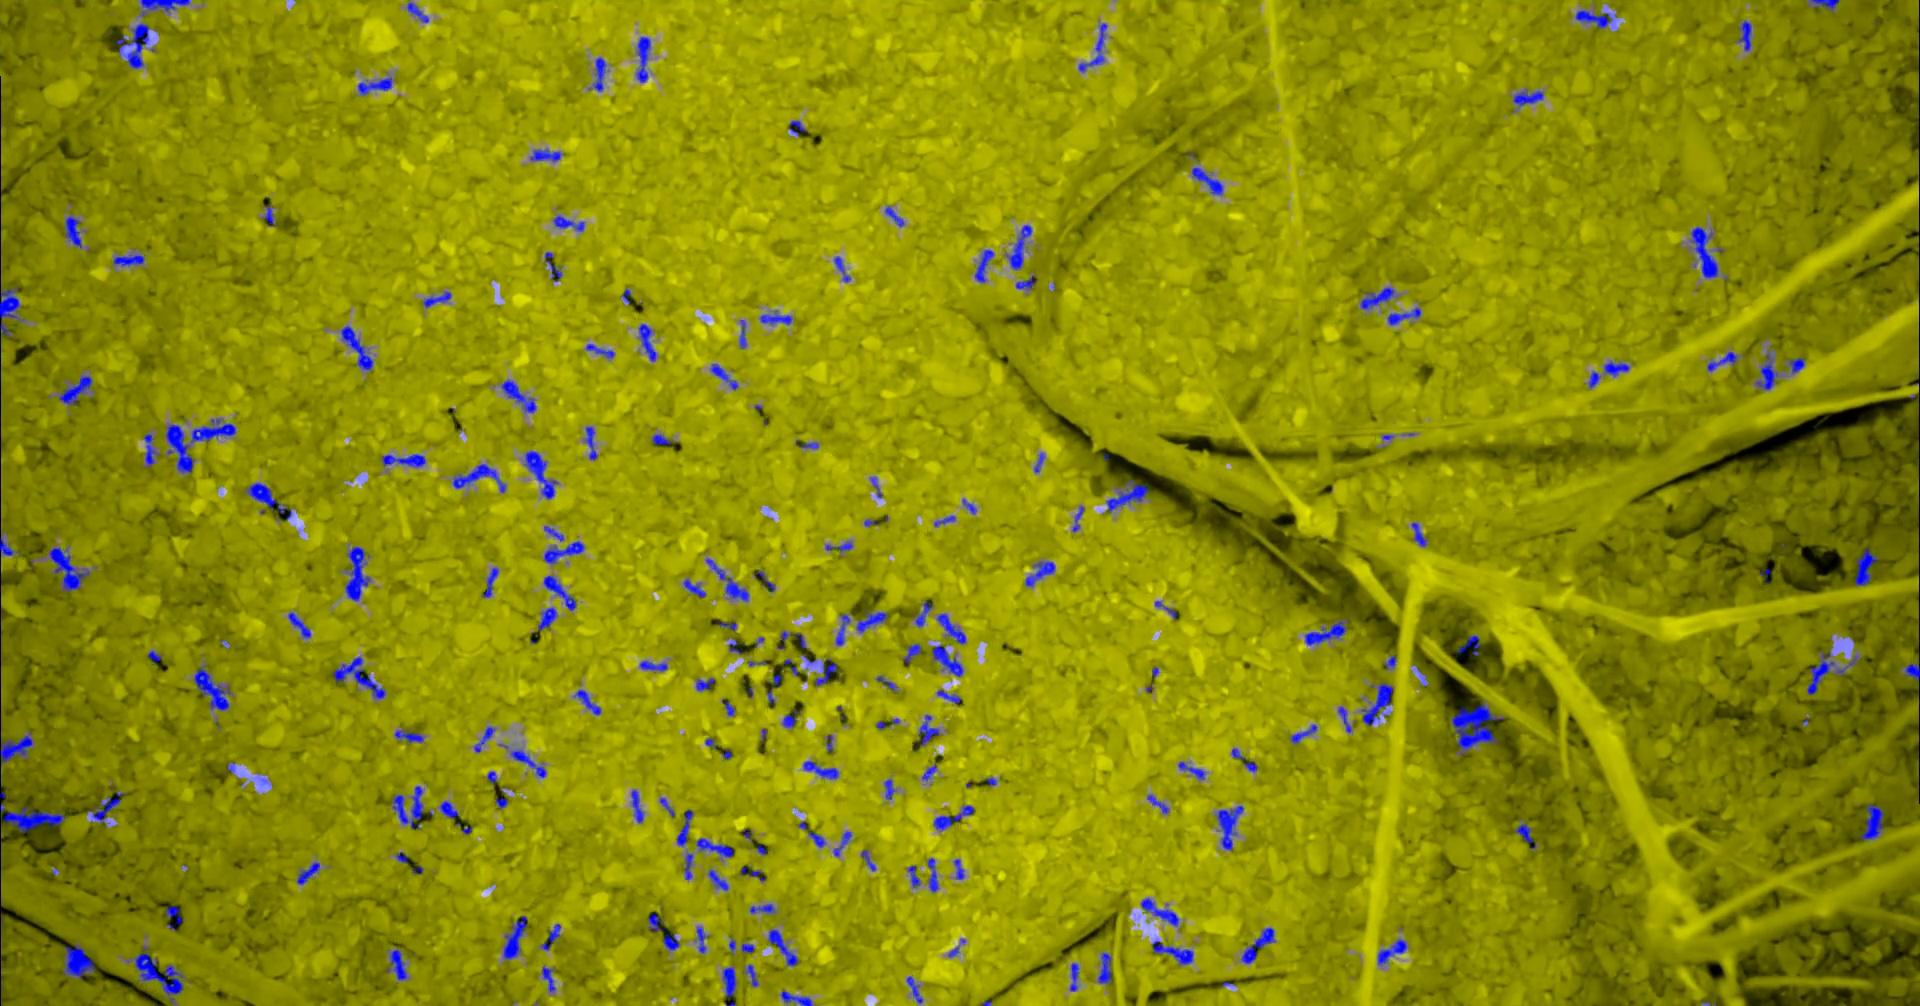ant: (135, 946, 183, 1005), (331, 655, 385, 699), (0, 803, 65, 832), (705, 558, 748, 601), (48, 547, 89, 591), (246, 481, 291, 520), (193, 666, 230, 710), (524, 450, 557, 498), (116, 23, 149, 69), (452, 464, 505, 492), (1690, 226, 1718, 278), (1105, 479, 1148, 512), (1360, 682, 1393, 725), (340, 325, 372, 370), (165, 424, 194, 473), (1078, 23, 1106, 72), (344, 546, 370, 600), (391, 785, 422, 829), (86, 791, 127, 824), (1806, 649, 1834, 694), (1215, 805, 1243, 850), (1004, 224, 1031, 269), (1241, 927, 1275, 963), (648, 913, 679, 950), (1304, 619, 1347, 645), (502, 379, 536, 412), (543, 575, 577, 610), (190, 418, 235, 443), (0, 730, 32, 766), (502, 915, 527, 959), (0, 285, 22, 337), (767, 929, 797, 965), (1140, 897, 1178, 926), (62, 944, 94, 978), (931, 644, 963, 676), (509, 749, 545, 777), (933, 805, 974, 829), (1152, 940, 1192, 964), (1854, 547, 1879, 586), (58, 375, 91, 404), (543, 540, 584, 563), (1859, 803, 1883, 840), (1191, 166, 1223, 194), (936, 614, 965, 643), (140, 0, 189, 17), (1377, 937, 1406, 965), (914, 714, 938, 747), (695, 837, 733, 857), (1359, 287, 1394, 309), (1755, 353, 1777, 389), (856, 608, 888, 633), (1023, 561, 1054, 586), (635, 36, 650, 83), (1575, 9, 1611, 28), (385, 949, 408, 979), (637, 323, 655, 361), (710, 363, 737, 389), (573, 688, 599, 714), (803, 760, 838, 779), (974, 249, 994, 282), (676, 809, 693, 846), (1705, 351, 1737, 371), (813, 658, 837, 685), (1230, 747, 1257, 771), (381, 453, 425, 467), (587, 57, 604, 91), (357, 76, 391, 94), (1385, 307, 1420, 325), (287, 612, 310, 638), (1514, 822, 1535, 848), (63, 215, 81, 246), (776, 630, 805, 649), (472, 727, 494, 752), (1903, 662, 1919, 697), (540, 923, 560, 950), (552, 215, 584, 231), (296, 861, 319, 884), (1457, 634, 1481, 655), (543, 251, 561, 281), (1512, 89, 1543, 105), (1177, 761, 1205, 779), (1290, 724, 1316, 743), (723, 967, 735, 1005), (780, 989, 811, 1005), (422, 291, 451, 307), (905, 976, 922, 1005), (143, 433, 157, 467), (914, 600, 932, 626), (406, 0, 428, 22), (753, 569, 775, 591), (483, 567, 498, 597), (759, 310, 792, 324), (833, 831, 851, 856), (836, 614, 850, 645), (1097, 951, 1111, 983), (707, 869, 728, 890), (682, 578, 705, 597), (537, 607, 556, 630), (1835, 655, 1858, 674), (1145, 794, 1168, 813), (164, 904, 182, 929), (833, 257, 850, 282), (584, 426, 597, 459), (630, 789, 643, 822), (0, 533, 19, 555), (1154, 600, 1176, 619), (1603, 361, 1629, 376), (585, 343, 613, 357), (1738, 19, 1751, 50), (530, 149, 560, 161), (884, 206, 903, 226), (739, 866, 764, 882), (902, 643, 919, 664), (927, 857, 938, 890), (1411, 522, 1426, 546), (936, 688, 961, 702), (1337, 706, 1351, 732), (541, 965, 555, 991), (113, 254, 143, 265), (394, 730, 424, 742), (439, 800, 458, 818), (1810, 0, 1839, 11), (860, 848, 875, 870), (1072, 506, 1084, 531), (696, 926, 709, 951), (808, 829, 825, 847), (543, 525, 563, 541), (876, 674, 897, 690), (659, 796, 674, 817), (744, 964, 758, 986), (1787, 357, 1804, 373), (1015, 276, 1035, 290), (824, 541, 852, 551), (639, 661, 667, 671), (875, 718, 899, 729), (907, 865, 919, 887), (789, 119, 806, 135), (782, 658, 797, 676), (782, 709, 797, 727), (1069, 962, 1078, 991), (749, 903, 775, 913), (921, 763, 936, 780), (264, 205, 276, 226), (933, 514, 955, 526), (695, 677, 714, 690), (651, 433, 672, 445), (883, 779, 894, 799), (952, 859, 964, 879), (721, 699, 734, 715), (1589, 370, 1600, 387), (146, 650, 161, 663), (684, 854, 692, 879), (715, 621, 737, 630), (739, 319, 745, 348), (1383, 655, 1396, 669), (495, 796, 507, 808), (742, 942, 754, 951)
